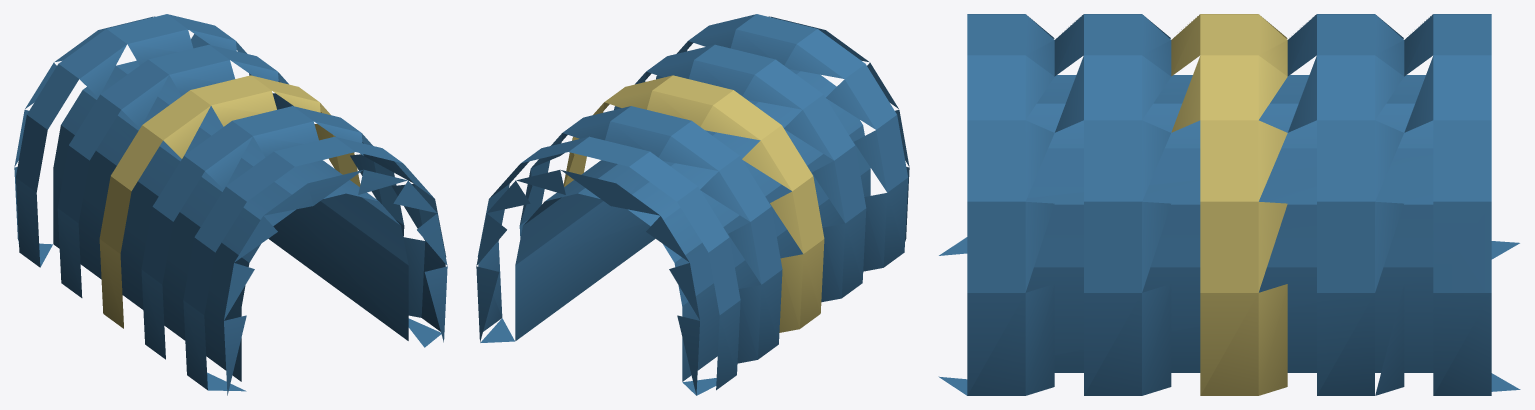
Rendered from inflatable.lod.glb.
3 renders of one model, left to right at view 1: azimuth 30°, elevation 25°; view 2: azimuth 150°, elevation 25°; view 3: azimuth 270°, elevation 25°, orthographic. The views are drawn at different scales.
Visible parts, largest first — view 1: inflatable; view 2: inflatable; view 3: inflatable.
Boxes of the visible parts, <box> form: inflatable: <box>14,14,447,395</box>; inflatable: <box>476,14,909,395</box>; inflatable: <box>938,14,1520,395</box>.
Size of the model in its own units: 4.4 by 3.52 by 6.6.
